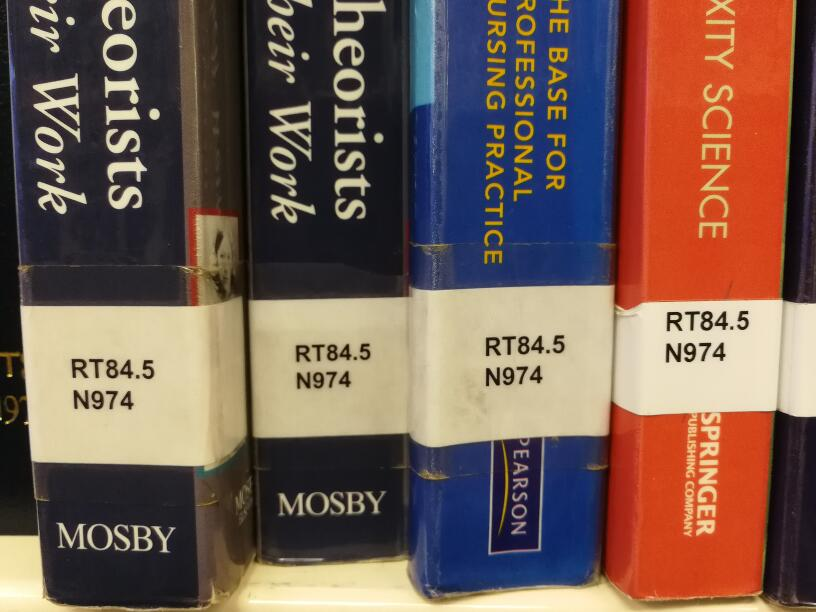booklabel: (69, 355, 157, 412), (662, 308, 751, 364), (481, 333, 566, 388), (291, 341, 374, 391)
